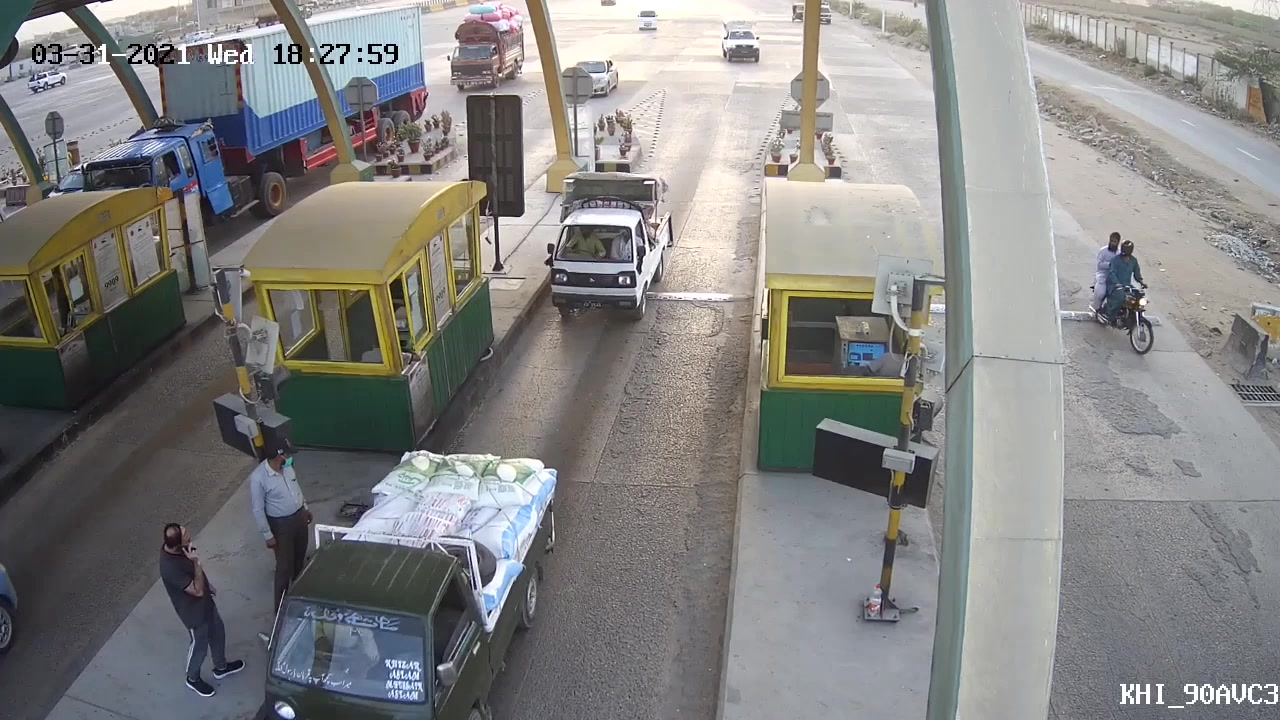F1: (535, 162, 674, 332)
